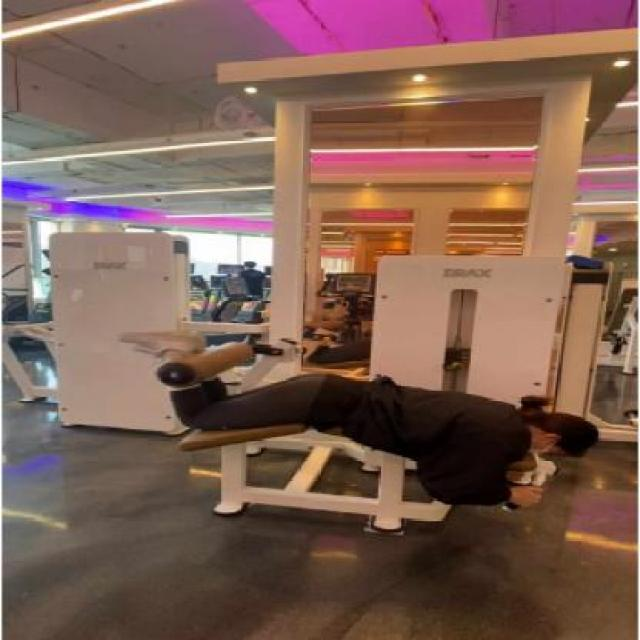reg curl machine: (108, 250, 630, 544)
